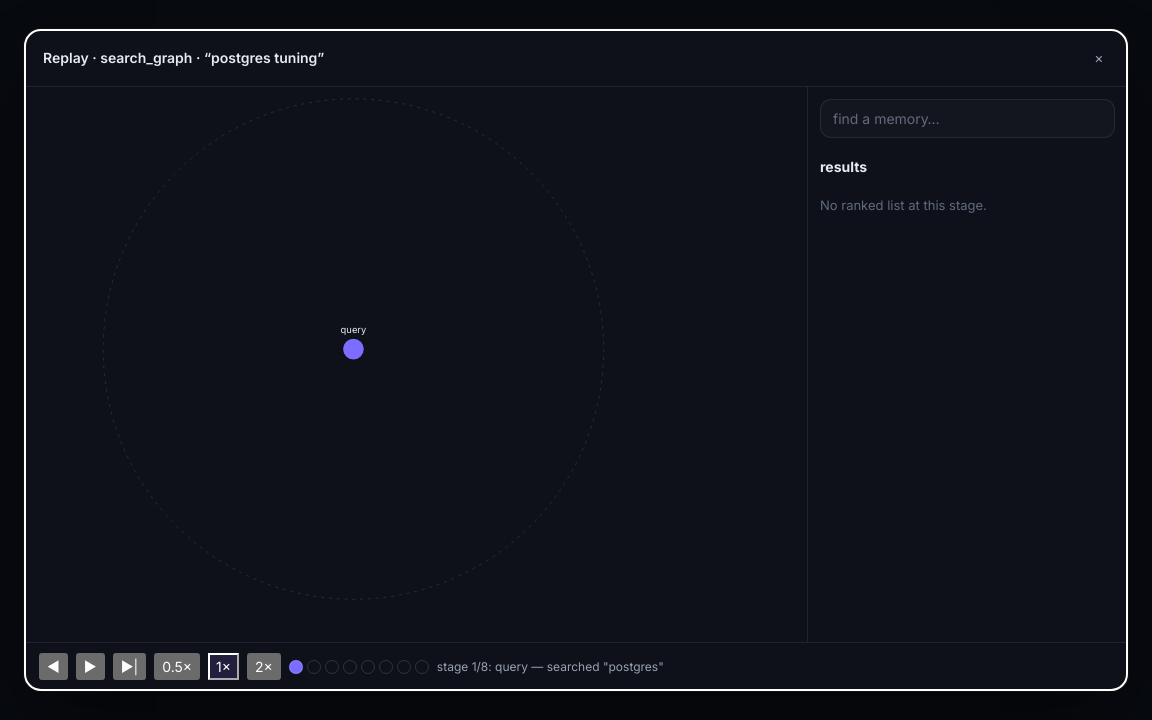
Test: ReplayOverlay › loads the replay and steps through stages
The image size is (1152, 720).
Expected: the text "stage 1/8: query — searched \"postgres\"" is shown, [437,658,664,676]
Click the button named "next stage".
click(129, 667)  # box [113,653,146,680]
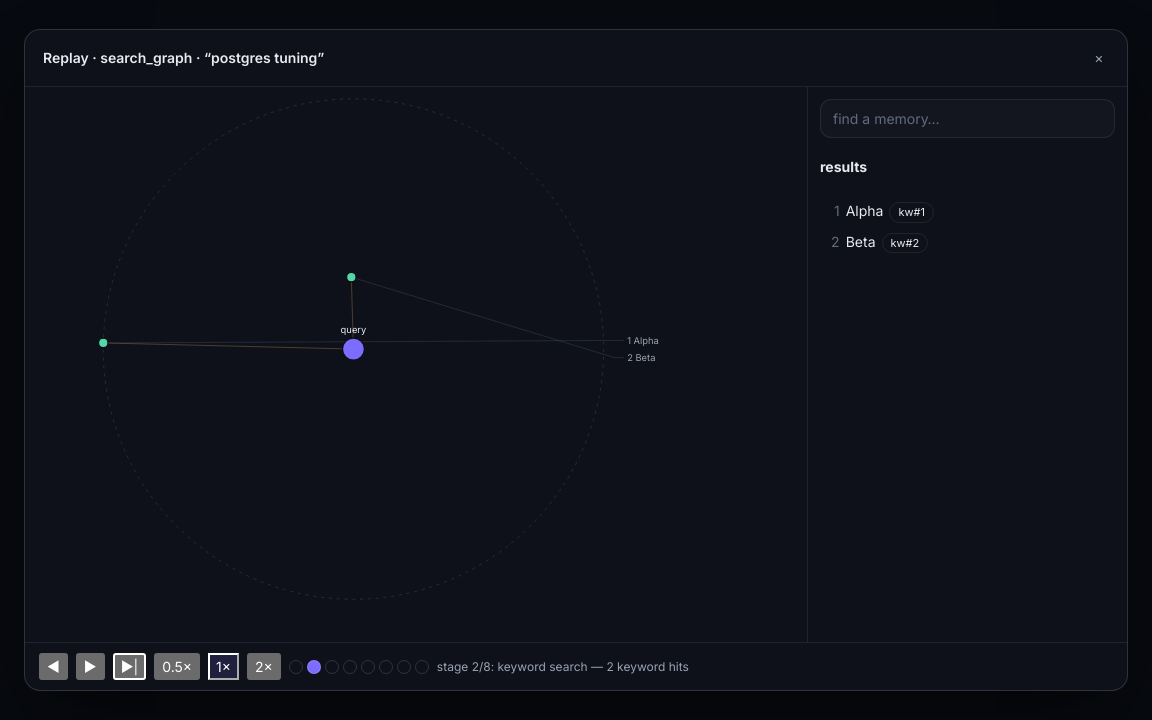
Expected: the text "stage 2/8: keyword search — 2 keyword hits" is shown, [437,658,689,676]
